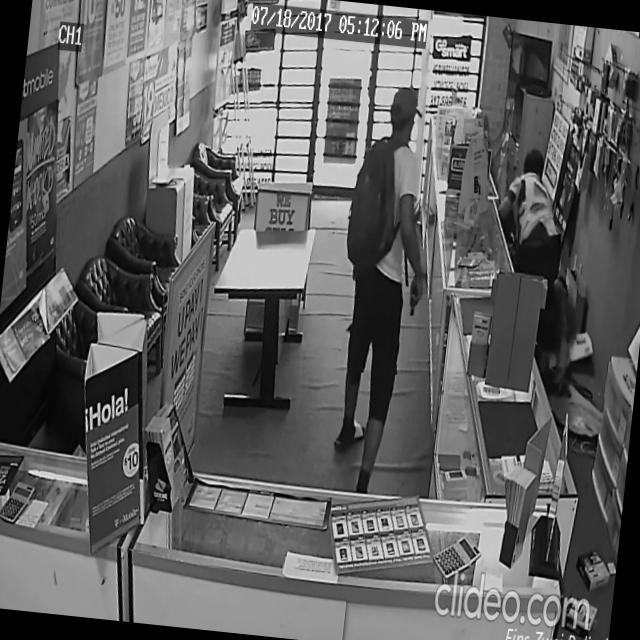gun: (406, 280, 424, 320)
person: (480, 142, 578, 402)
person with a gun: (320, 77, 447, 497)
